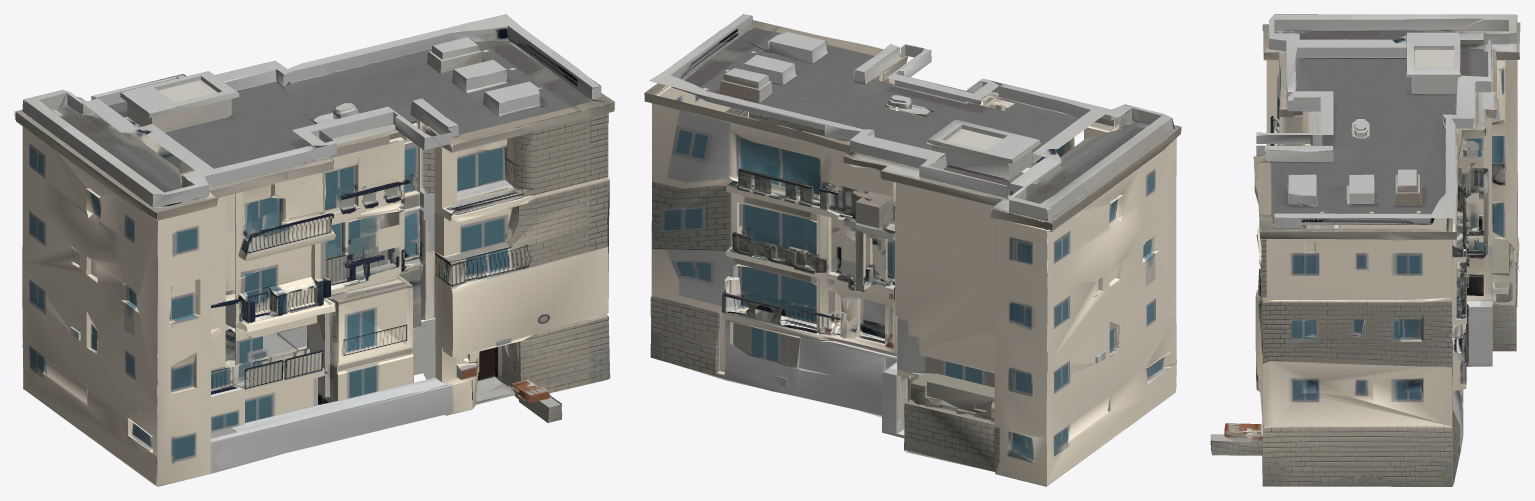
Rendered from placed_bld_556855839.glb.
3 renders of one model, left to right at view 1: azimuth 30°, elevation 25°; view 2: azimuth 150°, elevation 25°; view 3: azimuth 270°, elevation 25°, orthographic. The views are drawn at different scales.
Visible parts, largest first — view 1: bld_556855839; view 2: bld_556855839; view 3: bld_556855839.
Part boxes in pixels (left/top/right/bottom): bld_556855839: left=14, top=14, right=615, bottom=486; bld_556855839: left=644, top=14, right=1181, bottom=486; bld_556855839: left=1210, top=14, right=1520, bottom=486.
Bounding box in the file's own units: 15.54 × 9.8 × 9.72.
1 material, 1 textured.
